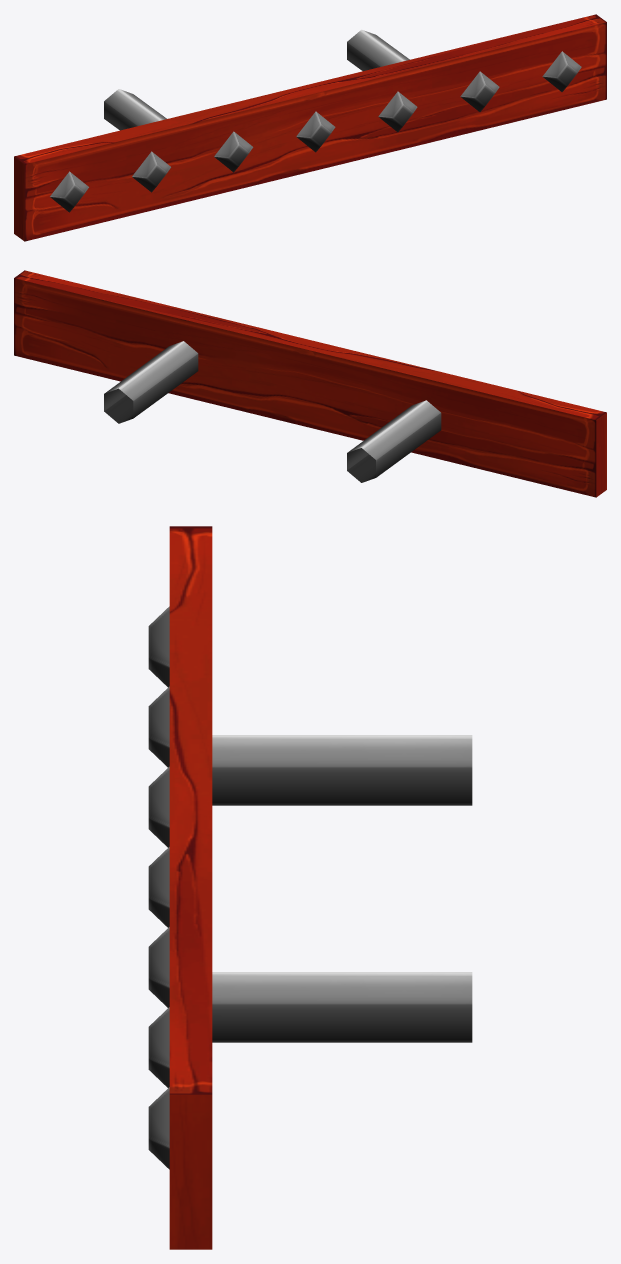
Rendered from wall_red_04.fbx.
3 views of the same model, one above another, from view 1: azimuth 30°, elevation 25°; view 2: azimuth 150°, elevation 25°; view 3: azimuth 270°, elevation 25° (orthographic). The views are drawn at different scales.
Parts seen in each view (by area): view 1: wall_8, spring_9, spring_8; view 2: wall_8, spring_8, spring_9; view 3: wall_8, spring_8, spring_9.
Boxes of the visible parts, x1,y1,x2,y2 form: wall_8: (14,14,606,241); spring_9: (104,89,166,130); spring_8: (347,29,409,71); wall_8: (14,270,606,497); spring_8: (104,341,198,423); spring_9: (347,400,441,482); wall_8: (148,526,212,1249); spring_8: (212,972,472,1042); spring_9: (212,735,472,805).
Size of the model in its own units: 315 by 40 by 75.79.
